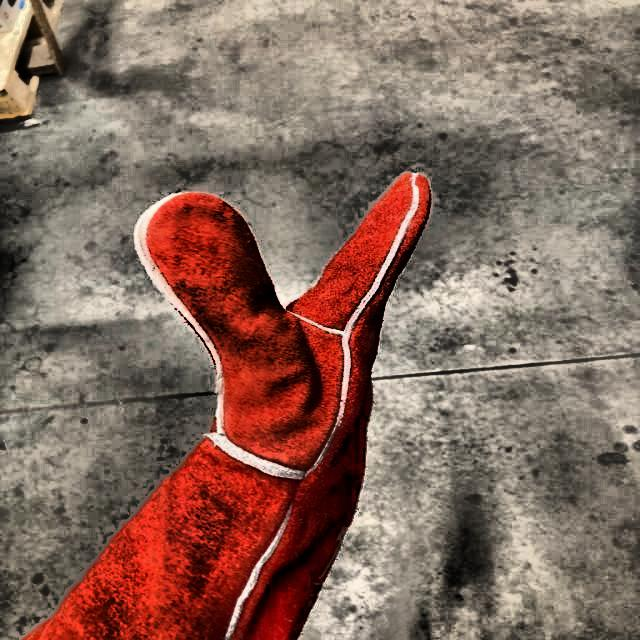gloved: (112, 163, 437, 615)
